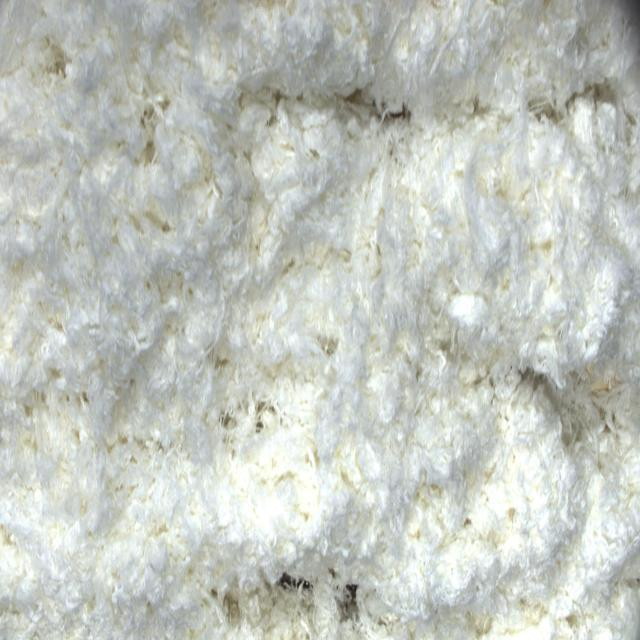dust: (591, 373, 620, 398), (578, 88, 612, 100)
